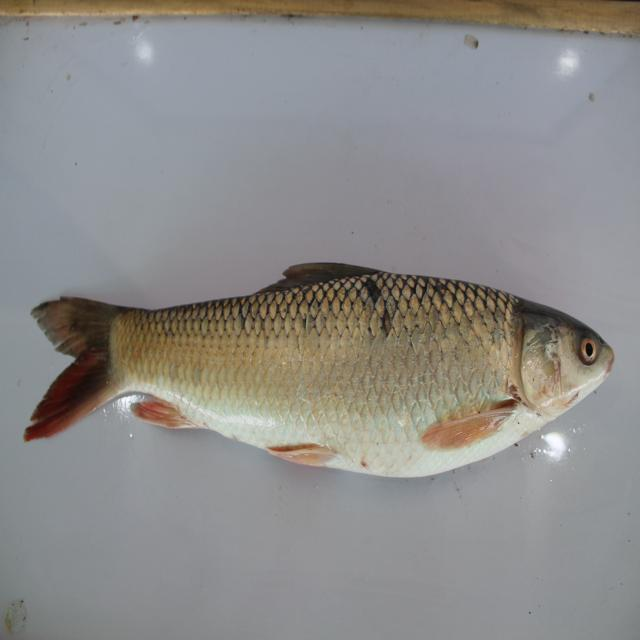Mori: (27, 244, 620, 500)
